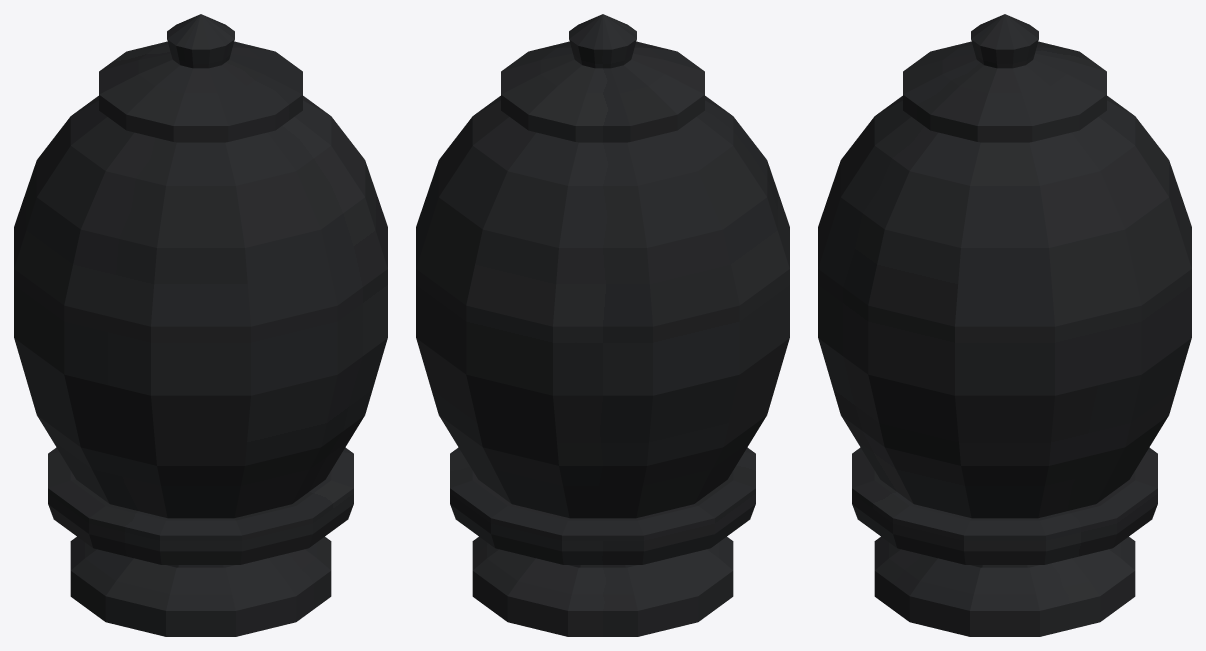
The model's file is decolight_laparagonjr_inv.obj.
3 renders of one model, left to right at view 1: azimuth 30°, elevation 25°; view 2: azimuth 150°, elevation 25°; view 3: azimuth 270°, elevation 25°, orthographic.
Parts seen in each view (by area): view 1: decolight_laparagonjr_inv; view 2: decolight_laparagonjr_inv; view 3: decolight_laparagonjr_inv.
Boxes of the visible parts, x1=… form: decolight_laparagonjr_inv: x1=14, y1=14, x2=387, y2=636; decolight_laparagonjr_inv: x1=416, y1=14, x2=789, y2=636; decolight_laparagonjr_inv: x1=818, y1=14, x2=1191, y2=636.
Size of the model in its own units: 0.5815 by 0.975 by 0.5815.
